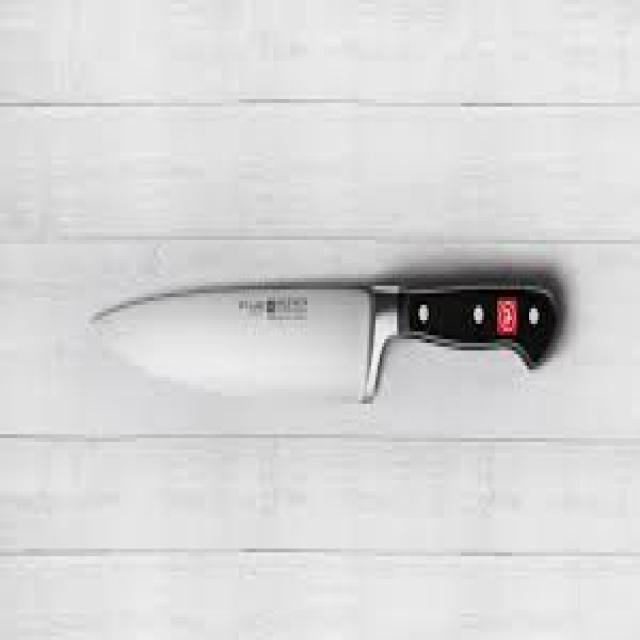knives: (88, 270, 563, 412)
